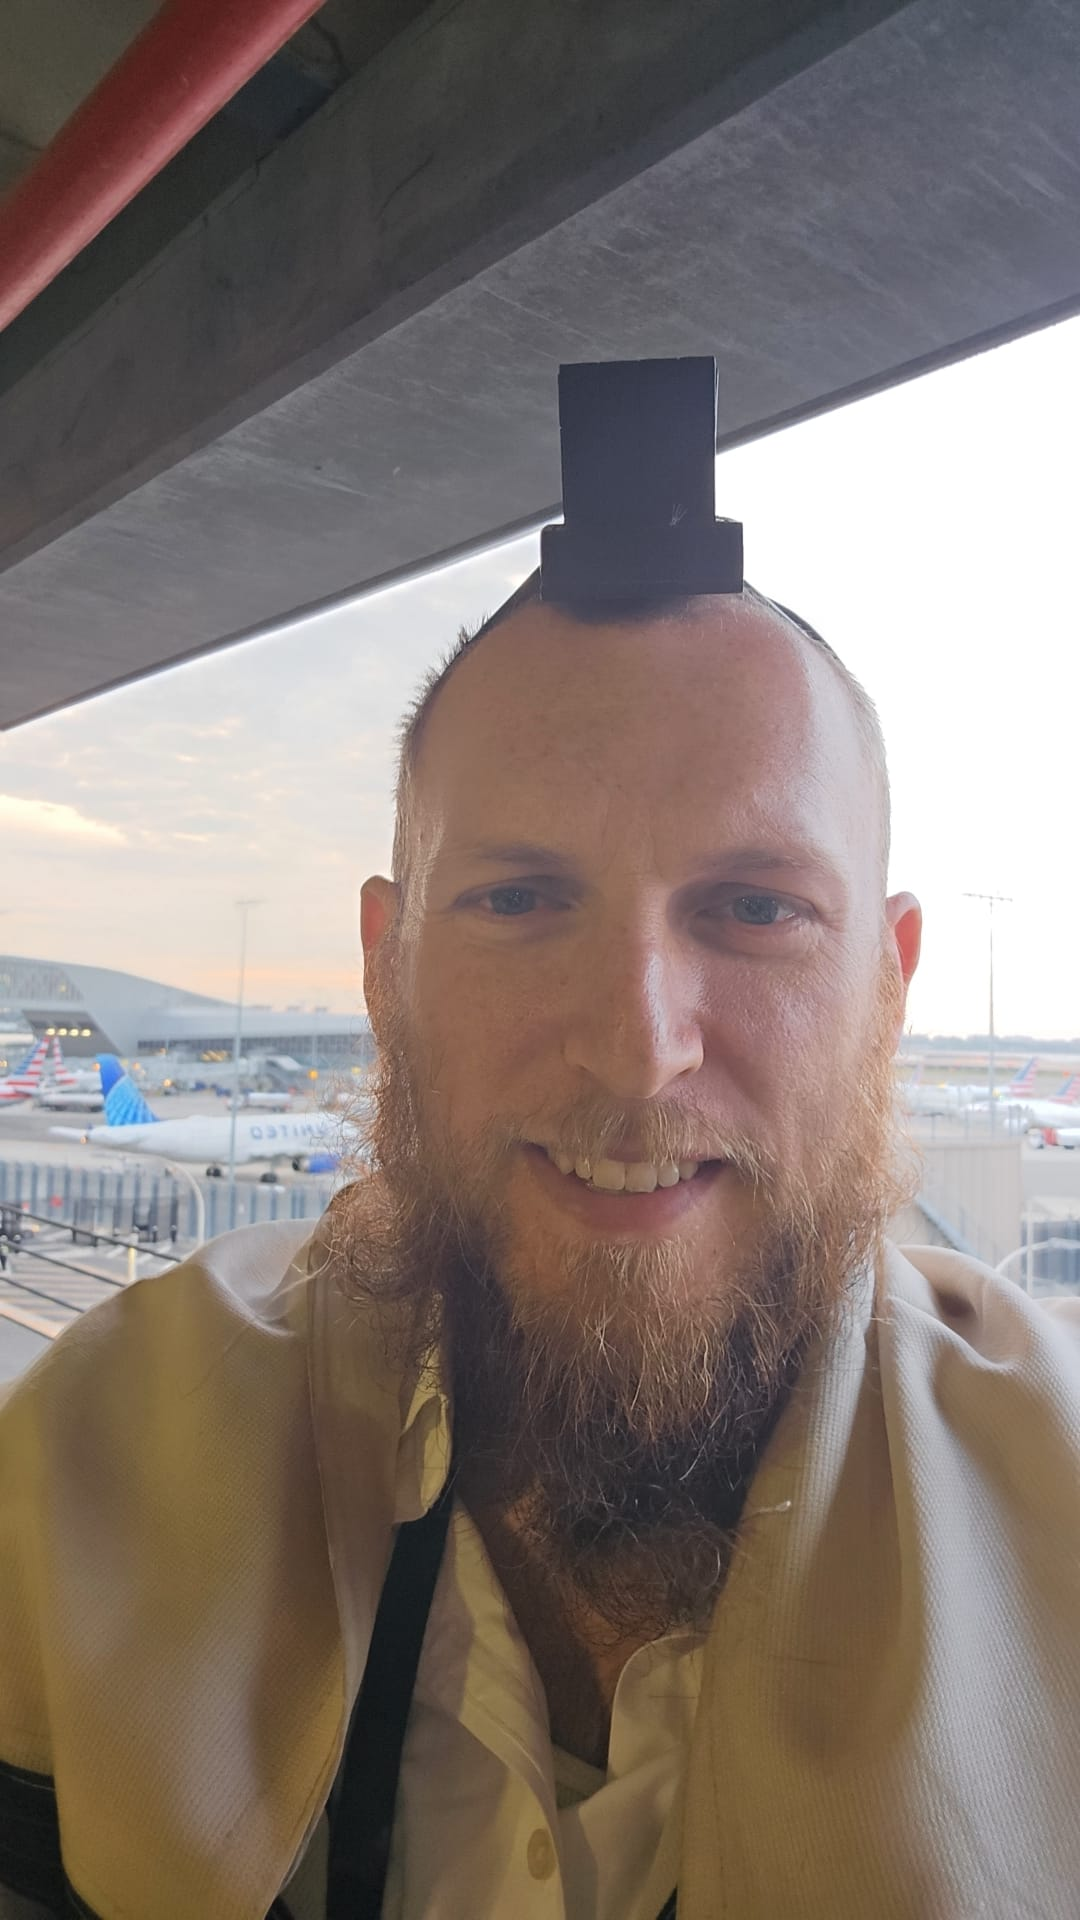tefillin: (538, 360, 744, 592)
